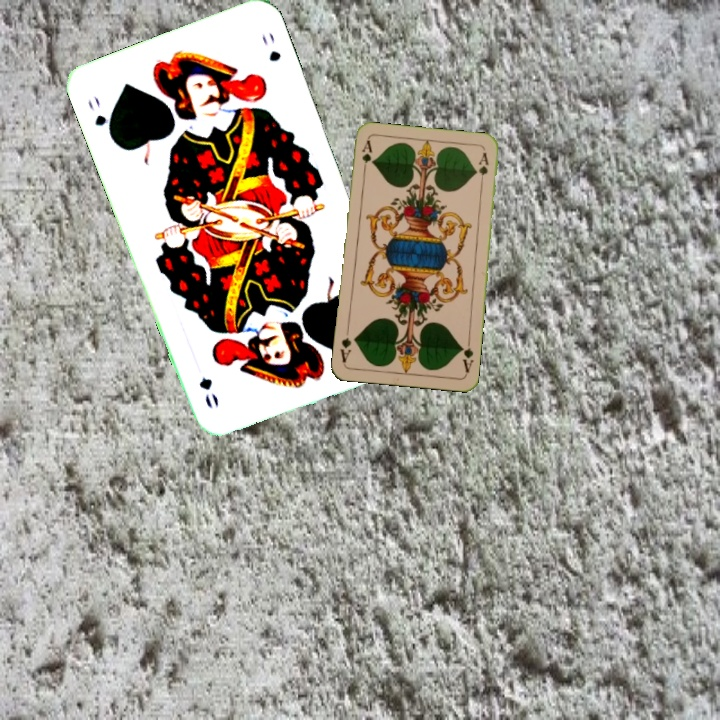GA: (457, 335, 476, 375), (358, 136, 374, 177)
GO: (83, 92, 116, 142)
